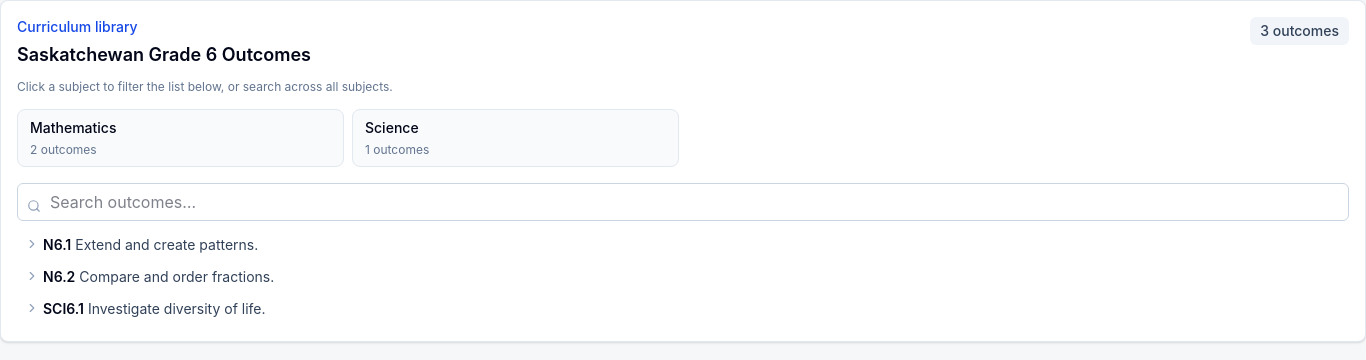
Test: CurriculumLibrary › filters to one subject when its tile is clicked, and clears on a second click
This screenshot has width=1366, height=360.
Click the button "Science 1 outcomes" at (392, 128), box [352, 109, 679, 167]
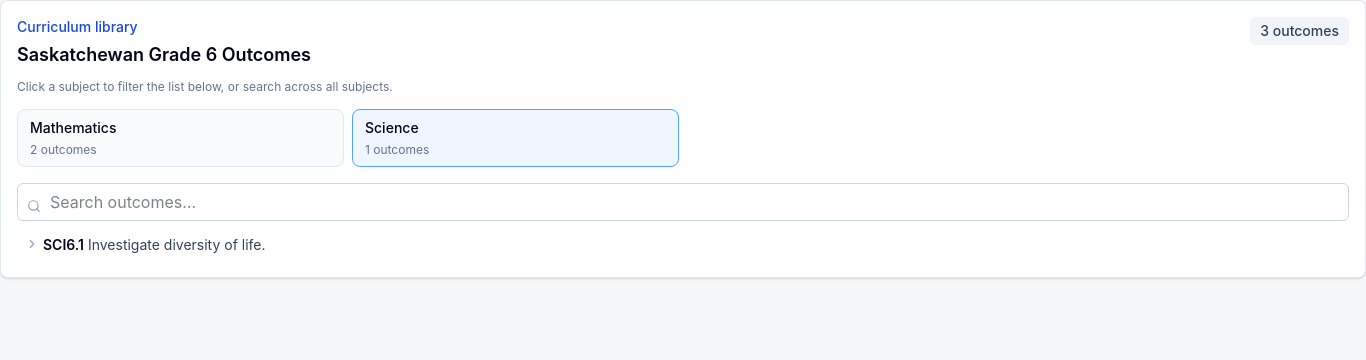
Expected: the text "SCI6.1" is shown, [43, 236, 84, 253]
Result: the button "N6.1" is gone
Click the button "Science 1 outcomes" at (392, 128), box [352, 109, 679, 167]
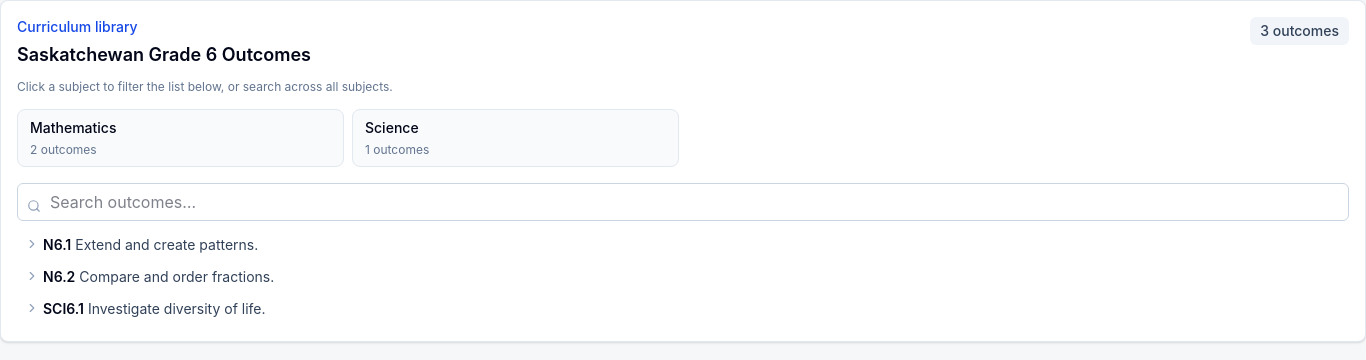
Result: the text "N6.1" is shown at [43, 236, 71, 253]
